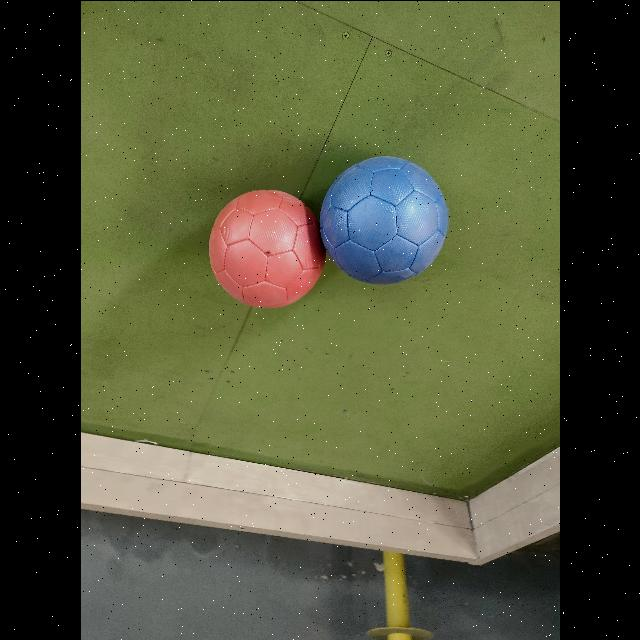B: (320, 155, 448, 284)
R: (208, 190, 325, 306)
